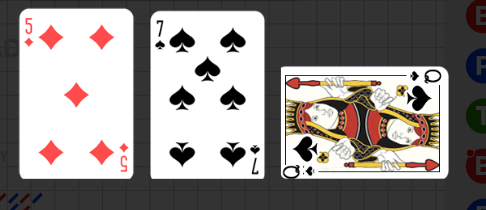7S: (248, 143, 261, 176)
9D: (118, 141, 130, 174)
9S: (407, 67, 444, 84)
